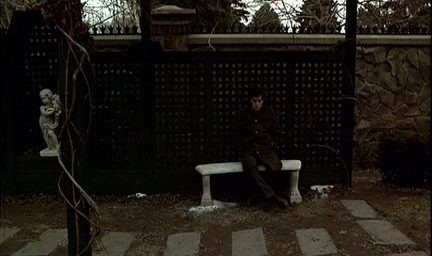els: (1, 1, 432, 256)
face: (250, 94, 263, 110)
person: (240, 89, 288, 213)
